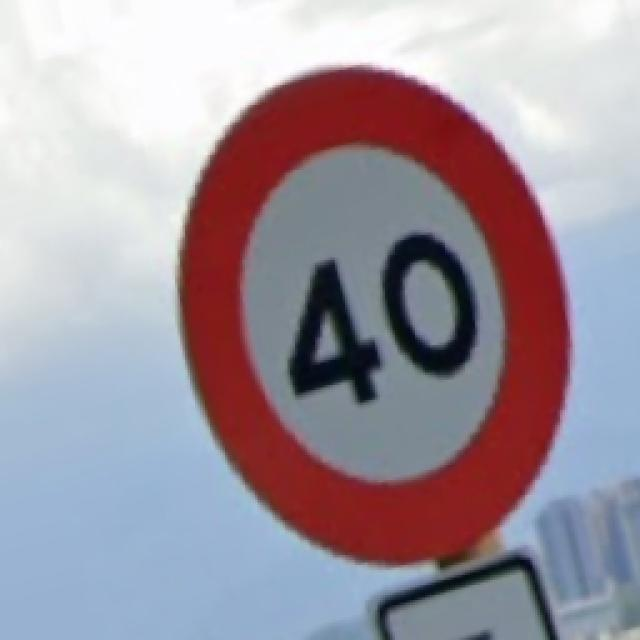Speed Limit -40-: (182, 68, 565, 562)
